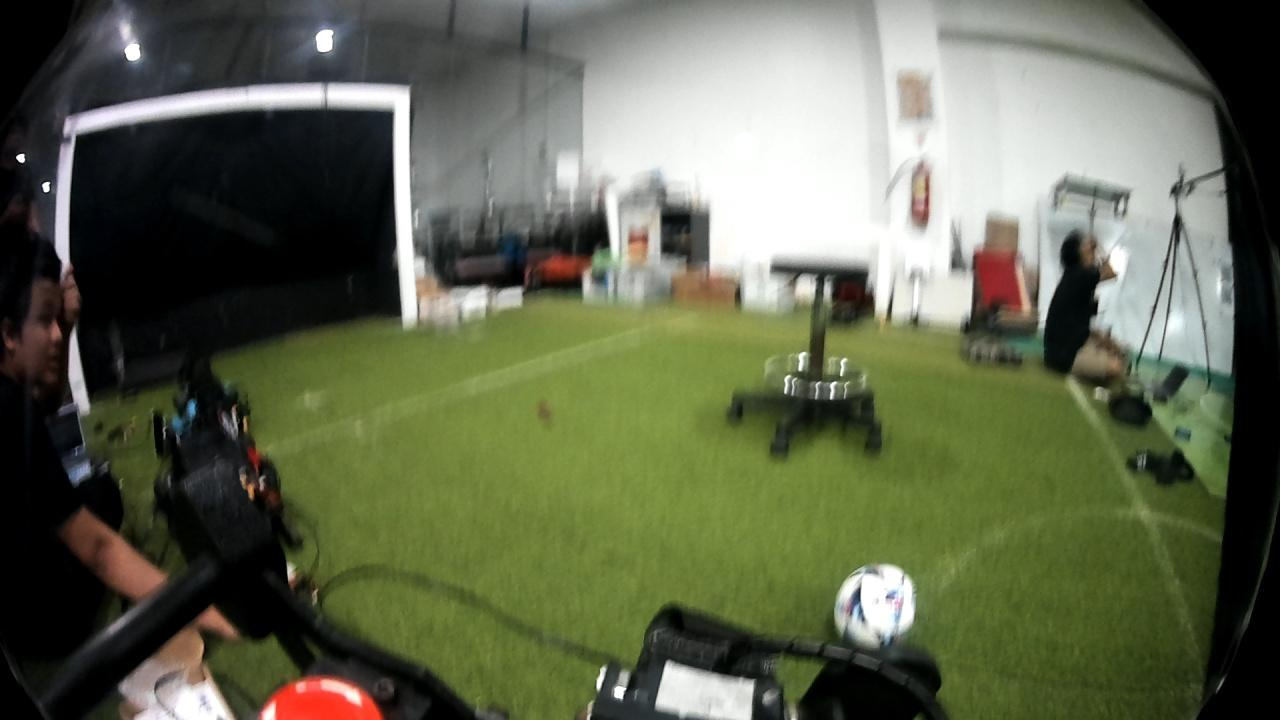ball: (830, 555, 921, 647)
